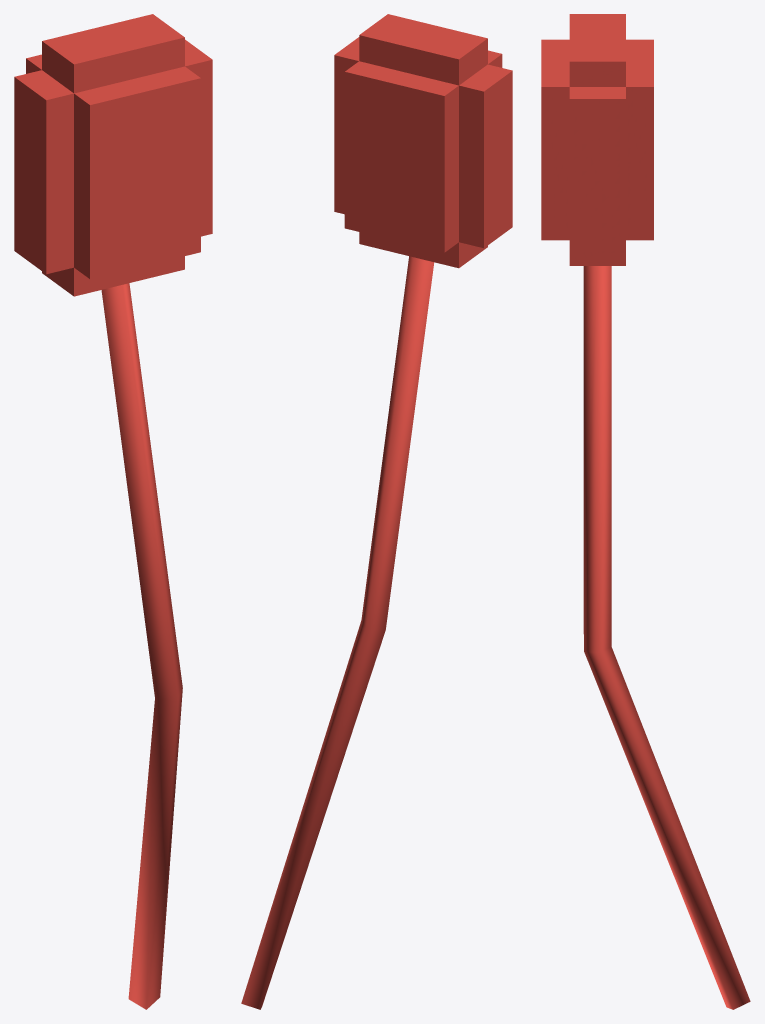
Rendered from treadmill_key.glb.
3 renders of one model, left to right at view 1: azimuth 30°, elevation 25°; view 2: azimuth 150°, elevation 25°; view 3: azimuth 270°, elevation 25°, orthographic. The views are drawn at different scales.
Visible parts, largest first — view 1: treadmill_key; view 2: treadmill_key; view 3: treadmill_key.
Boxes of the visible parts, bbox=[...] form: treadmill_key: bbox=[14, 14, 212, 1009]; treadmill_key: bbox=[241, 14, 512, 1009]; treadmill_key: bbox=[541, 14, 750, 1009].
Bounding box in the file's own units: 0.0746 × 0.3619 × 0.0743.
